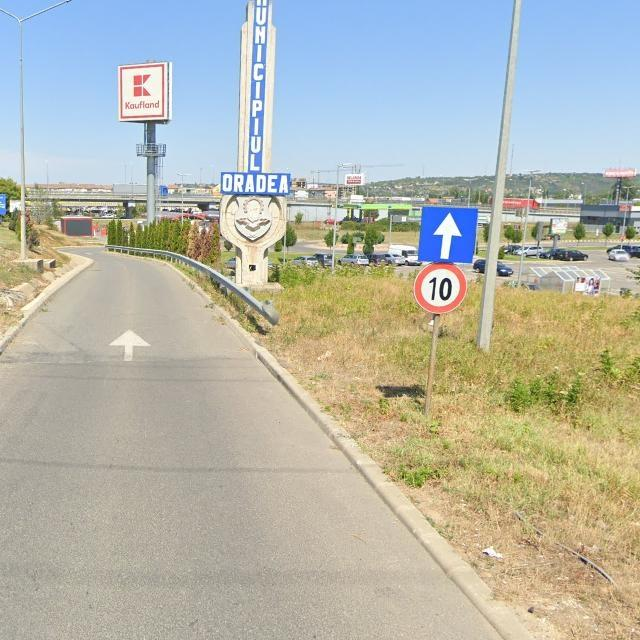forb_speed_over_10: (414, 263, 467, 313)
